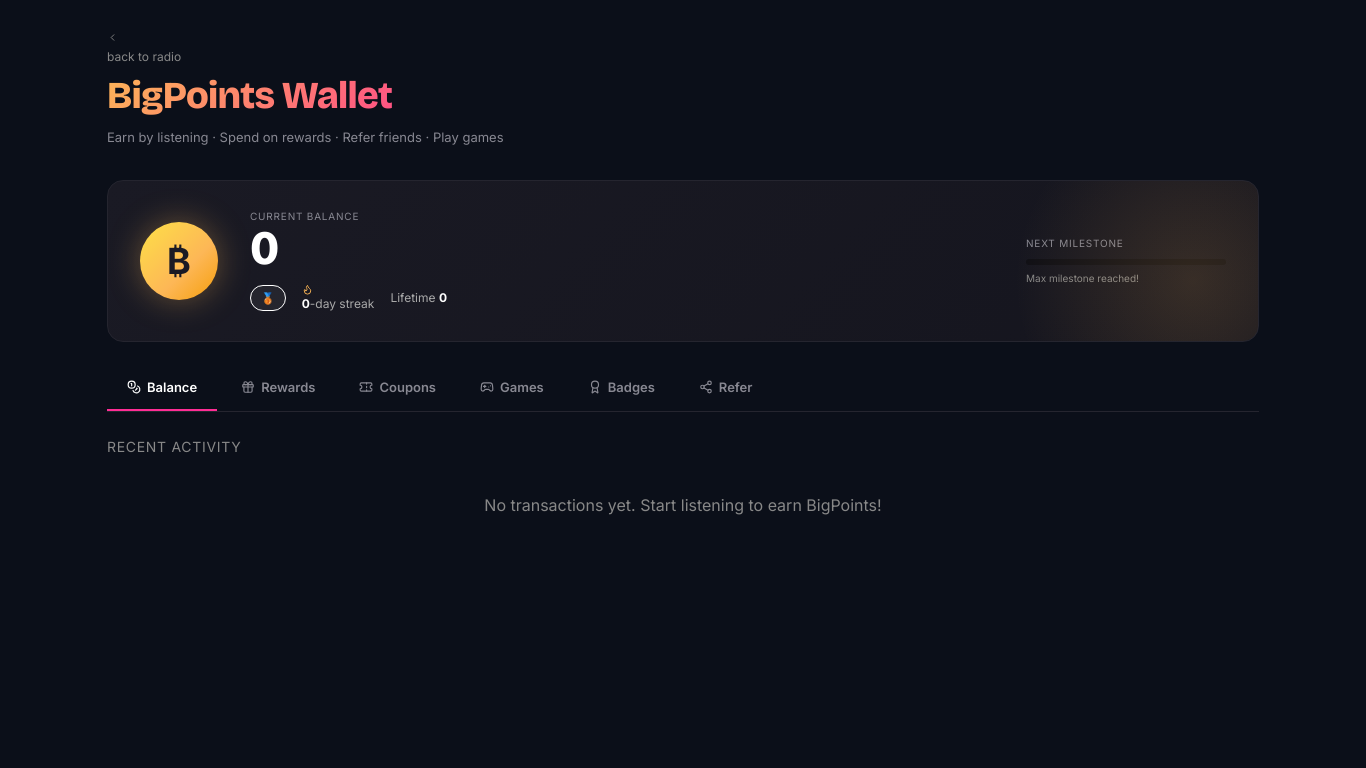
Phase 18 wallet GamesTab renders friendly empty state when no games
Later steps or results of the test are not shown.
Step 1. Click the button with test id "tab-games" → click(512, 388), box [460, 366, 564, 411]
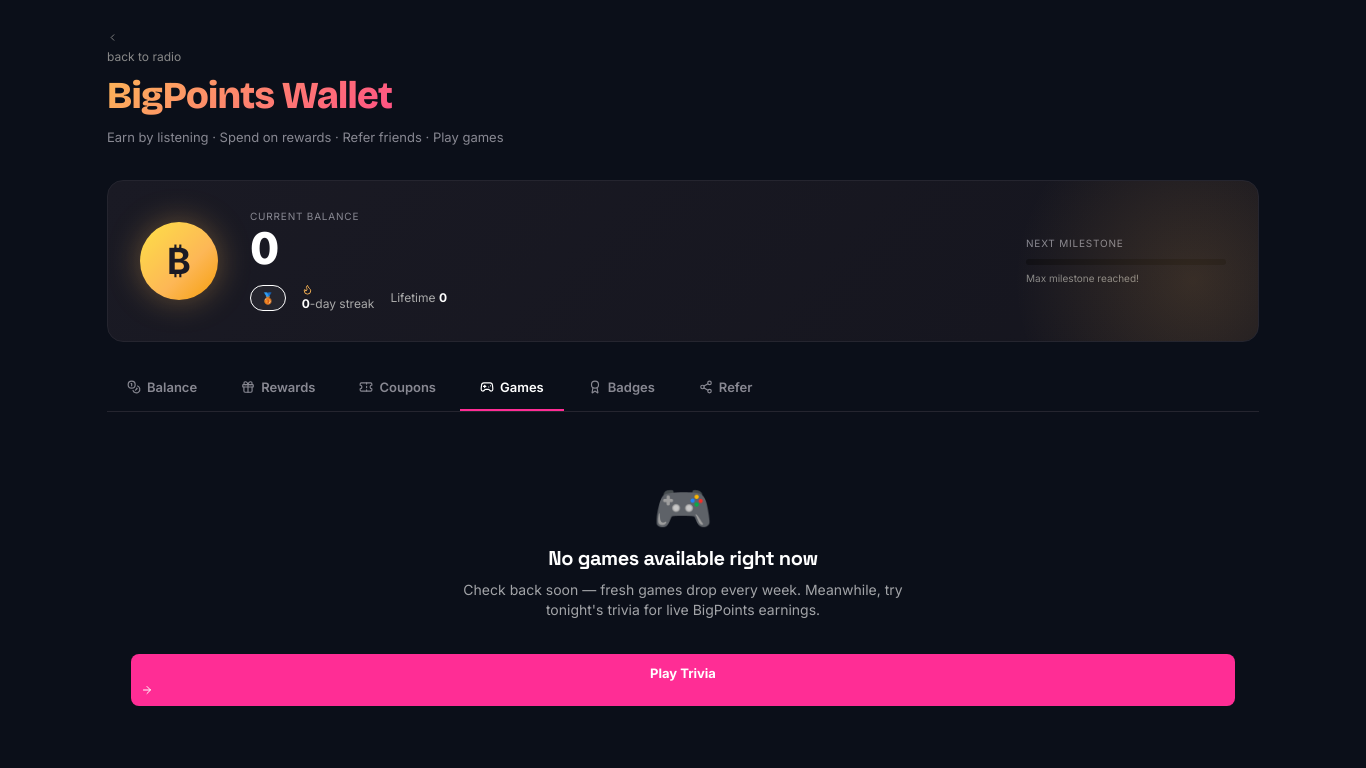
Expected: the text with test id "games-empty-title" shows "No games available", [548, 545, 818, 571]
